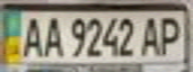2: (115, 14, 139, 57), (84, 15, 106, 58)
4: (103, 14, 121, 57)
9: (63, 14, 87, 58)
A: (39, 13, 66, 60), (18, 14, 45, 58), (136, 14, 163, 56)
P: (154, 14, 187, 56)
